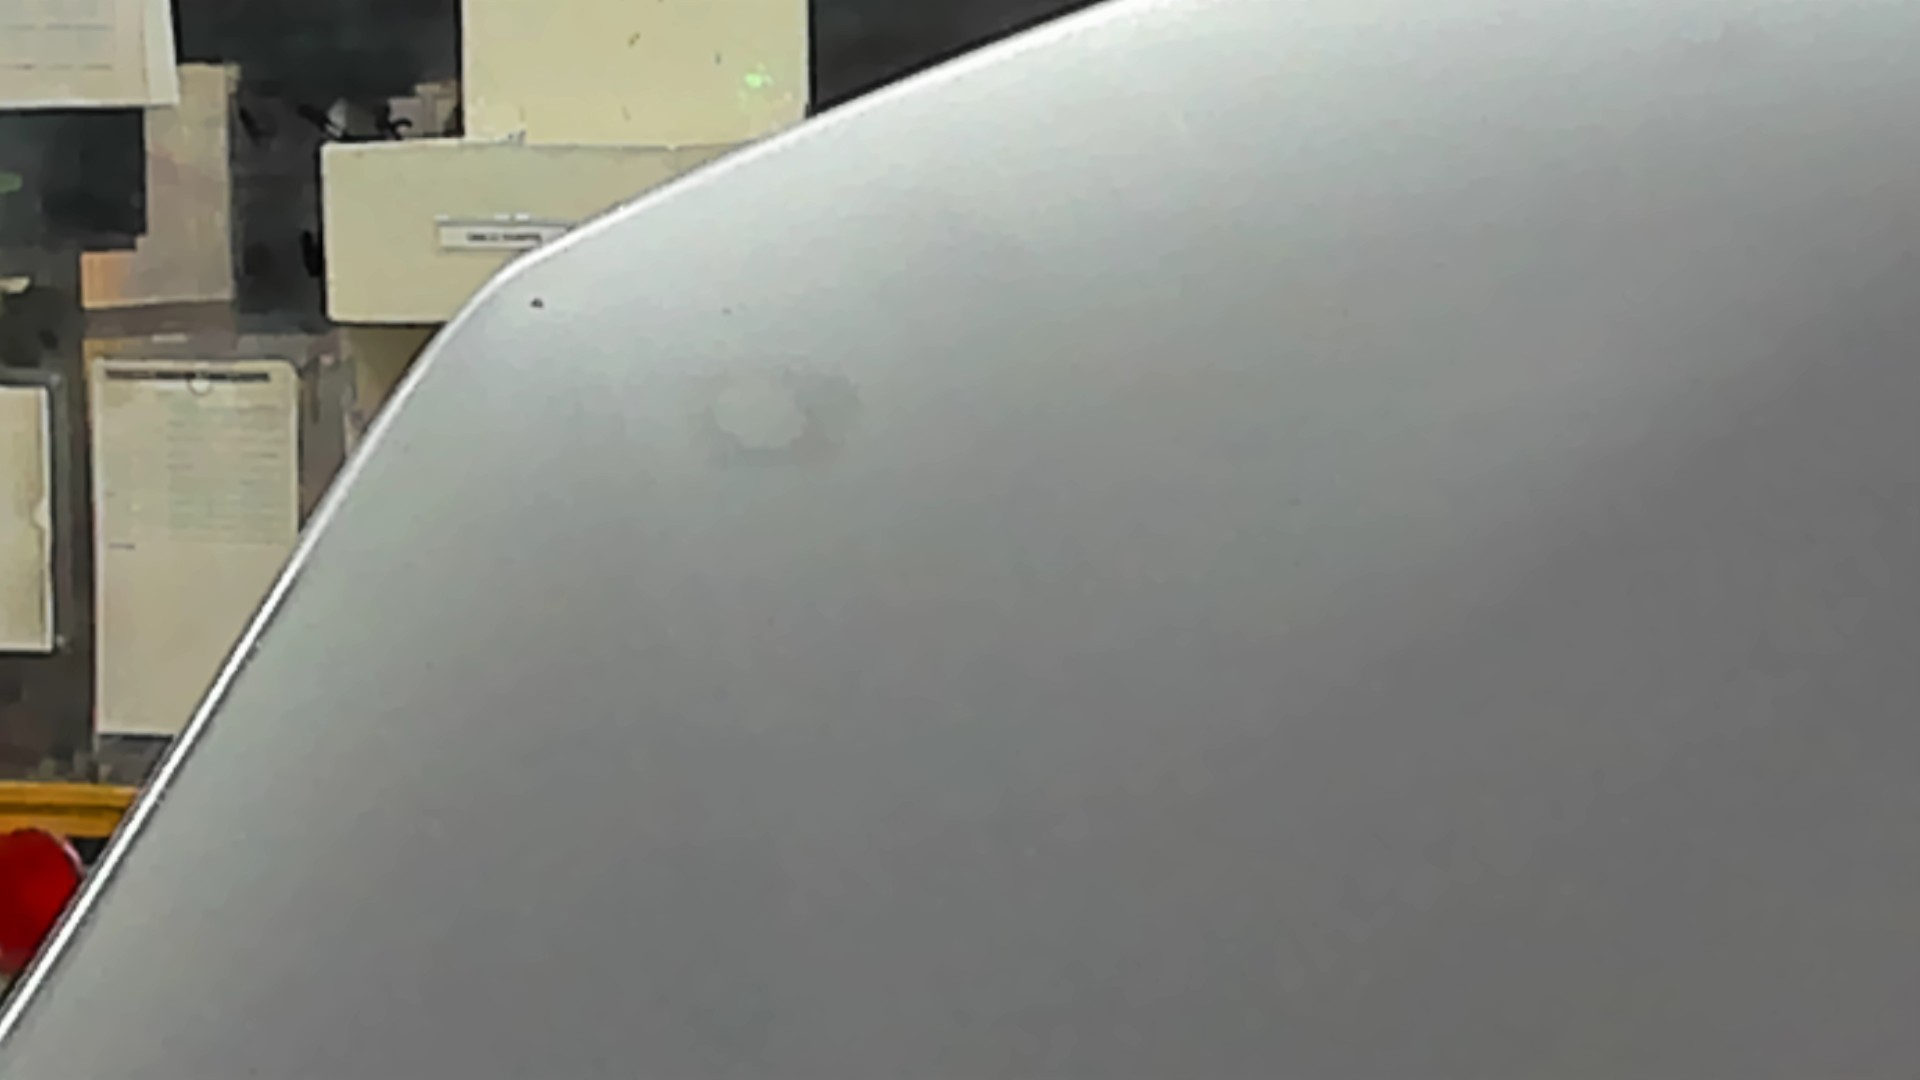capo: (678, 204, 1920, 1080)
